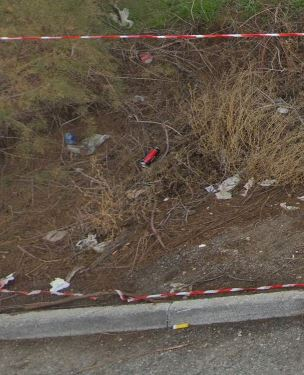trash: (205, 165, 276, 203), (57, 126, 112, 159), (75, 227, 110, 257), (137, 141, 165, 172), (105, 4, 135, 29), (49, 273, 72, 295), (1, 265, 18, 289), (132, 47, 157, 63), (169, 318, 197, 330), (274, 103, 288, 117)
